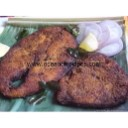seerfish: (2, 27, 76, 98), (61, 50, 128, 106)
